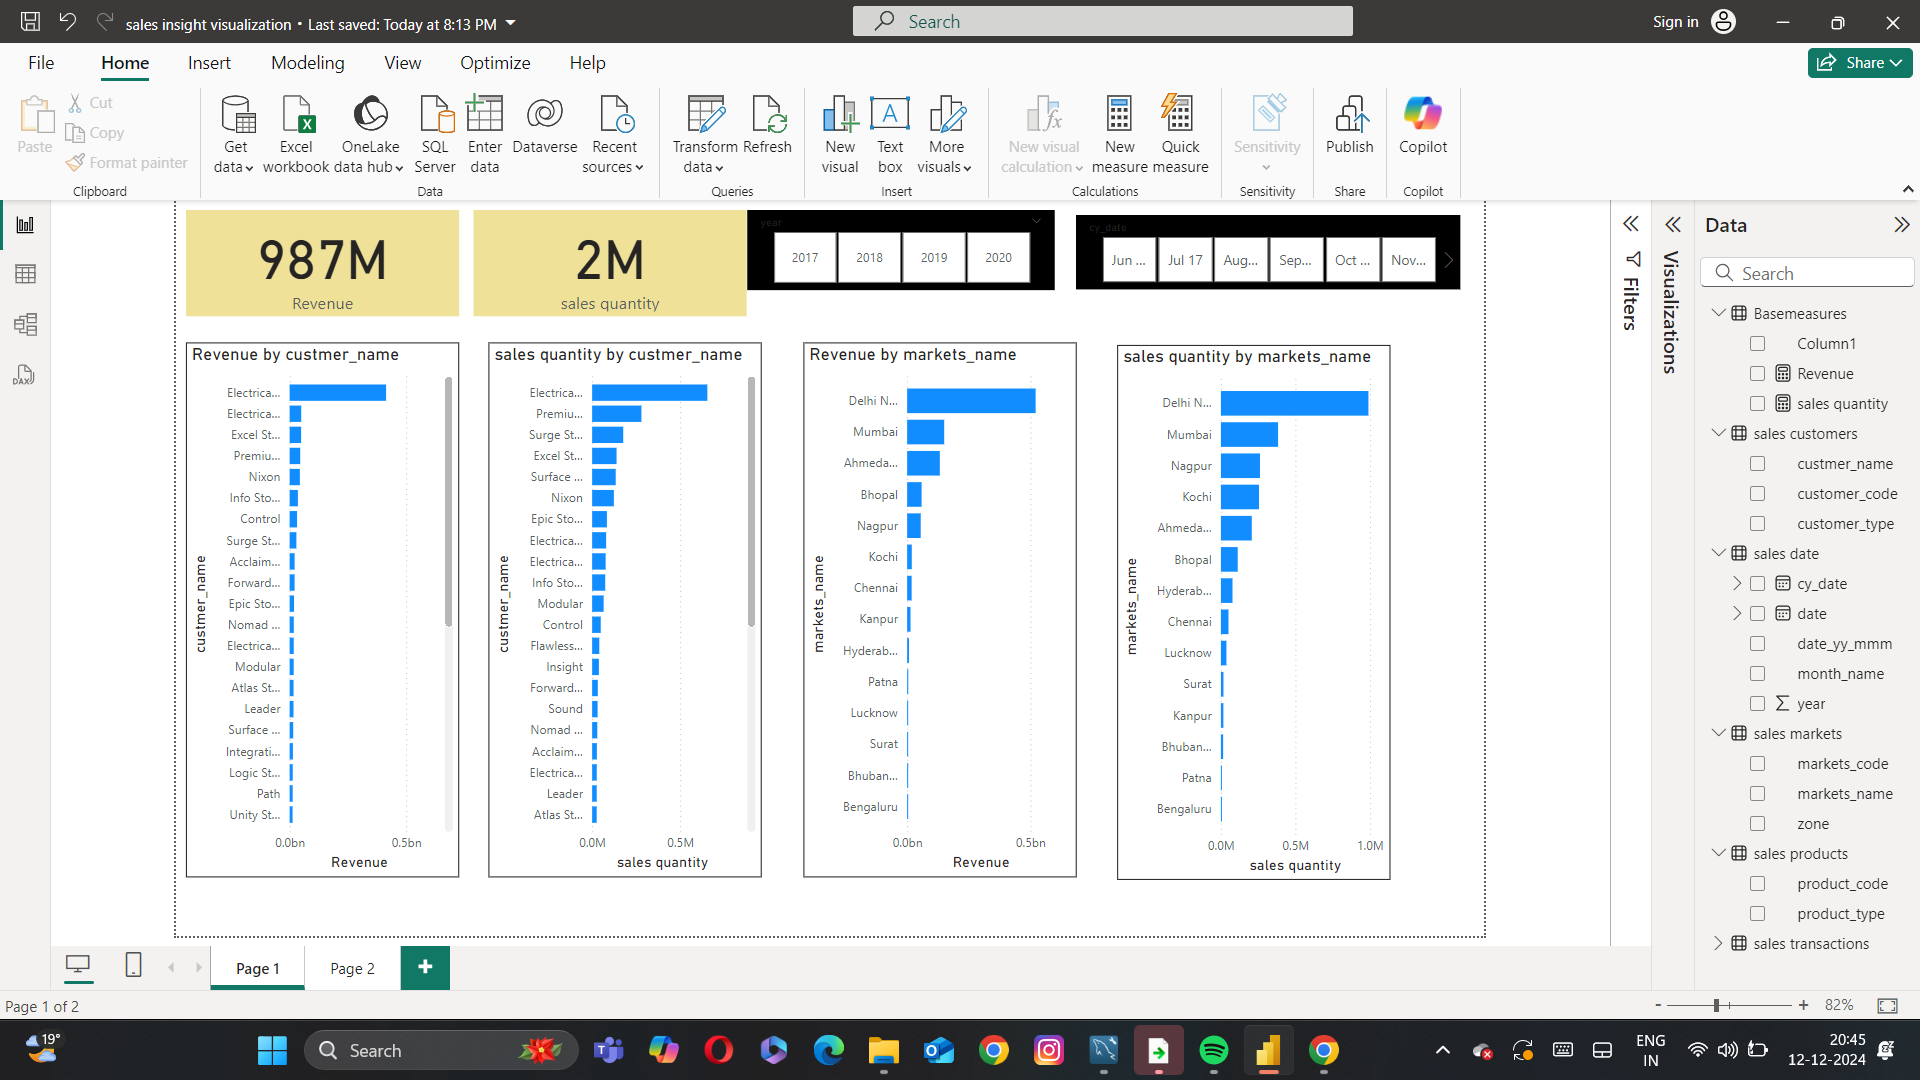

Layout of this report page (visuals, bound fields, positions):
{"tool":"powerbi","page":{"name":"Page 1","canvas":[1280,720],"ordinal":0},"visuals":[{"type":"card","fields":{"Values":["Basemeasures.Revenue"]},"box":[9.6,9.6,267.6,104.3],"z":0},{"type":"card","fields":{"Values":["Basemeasures.sales quantity"]},"box":[290.9,9.6,267.6,104.3],"z":1},{"type":"barChart","fields":{"Y":["Basemeasures.Revenue"],"Category":["sales customers.custmer_name"]},"box":[9.6,140,267.6,522.8],"z":2},{"type":"barChart","fields":{"Y":["Basemeasures.sales quantity"],"Category":["sales customers.custmer_name"]},"box":[306,140,267.6,522.8],"z":3},{"type":"slicer","fields":{"Values":["sales date.year"]},"box":[499.5,35.7,300.5,78.2],"z":4},{"type":"slicer","fields":{"Values":["sales date.cy_date"]},"box":[812.4,35.7,376,72.7],"z":5},{"type":"barChart","fields":{"Y":["Basemeasures.Revenue"],"Category":["sales markets.markets_name"]},"box":[613.4,140,267.6,522.8],"z":6},{"type":"barChart","fields":{"Y":["Basemeasures.sales quantity"],"Category":["sales markets.markets_name"]},"box":[920.8,141.3,267.6,522.8],"z":7}]}

Visuals, with their boxes on the page's 1280x720 design canvas (x1, y1, x2, y2). These are canvas units, not pixel positions in the 1920x1080 screenshot, which may show the page scaled, cropped or inside an application window:
card - Basemeasures.Revenue: l=10, t=10, r=277, b=114
card - Basemeasures.sales quantity: l=291, t=10, r=558, b=114
barChart - Basemeasures.Revenue x sales customers.custmer_name: l=10, t=140, r=277, b=663
barChart - Basemeasures.sales quantity x sales customers.custmer_name: l=306, t=140, r=574, b=663
slicer - sales date.year: l=500, t=36, r=800, b=114
slicer - sales date.cy_date: l=812, t=36, r=1188, b=108
barChart - Basemeasures.Revenue x sales markets.markets_name: l=613, t=140, r=881, b=663
barChart - Basemeasures.sales quantity x sales markets.markets_name: l=921, t=141, r=1188, b=664
